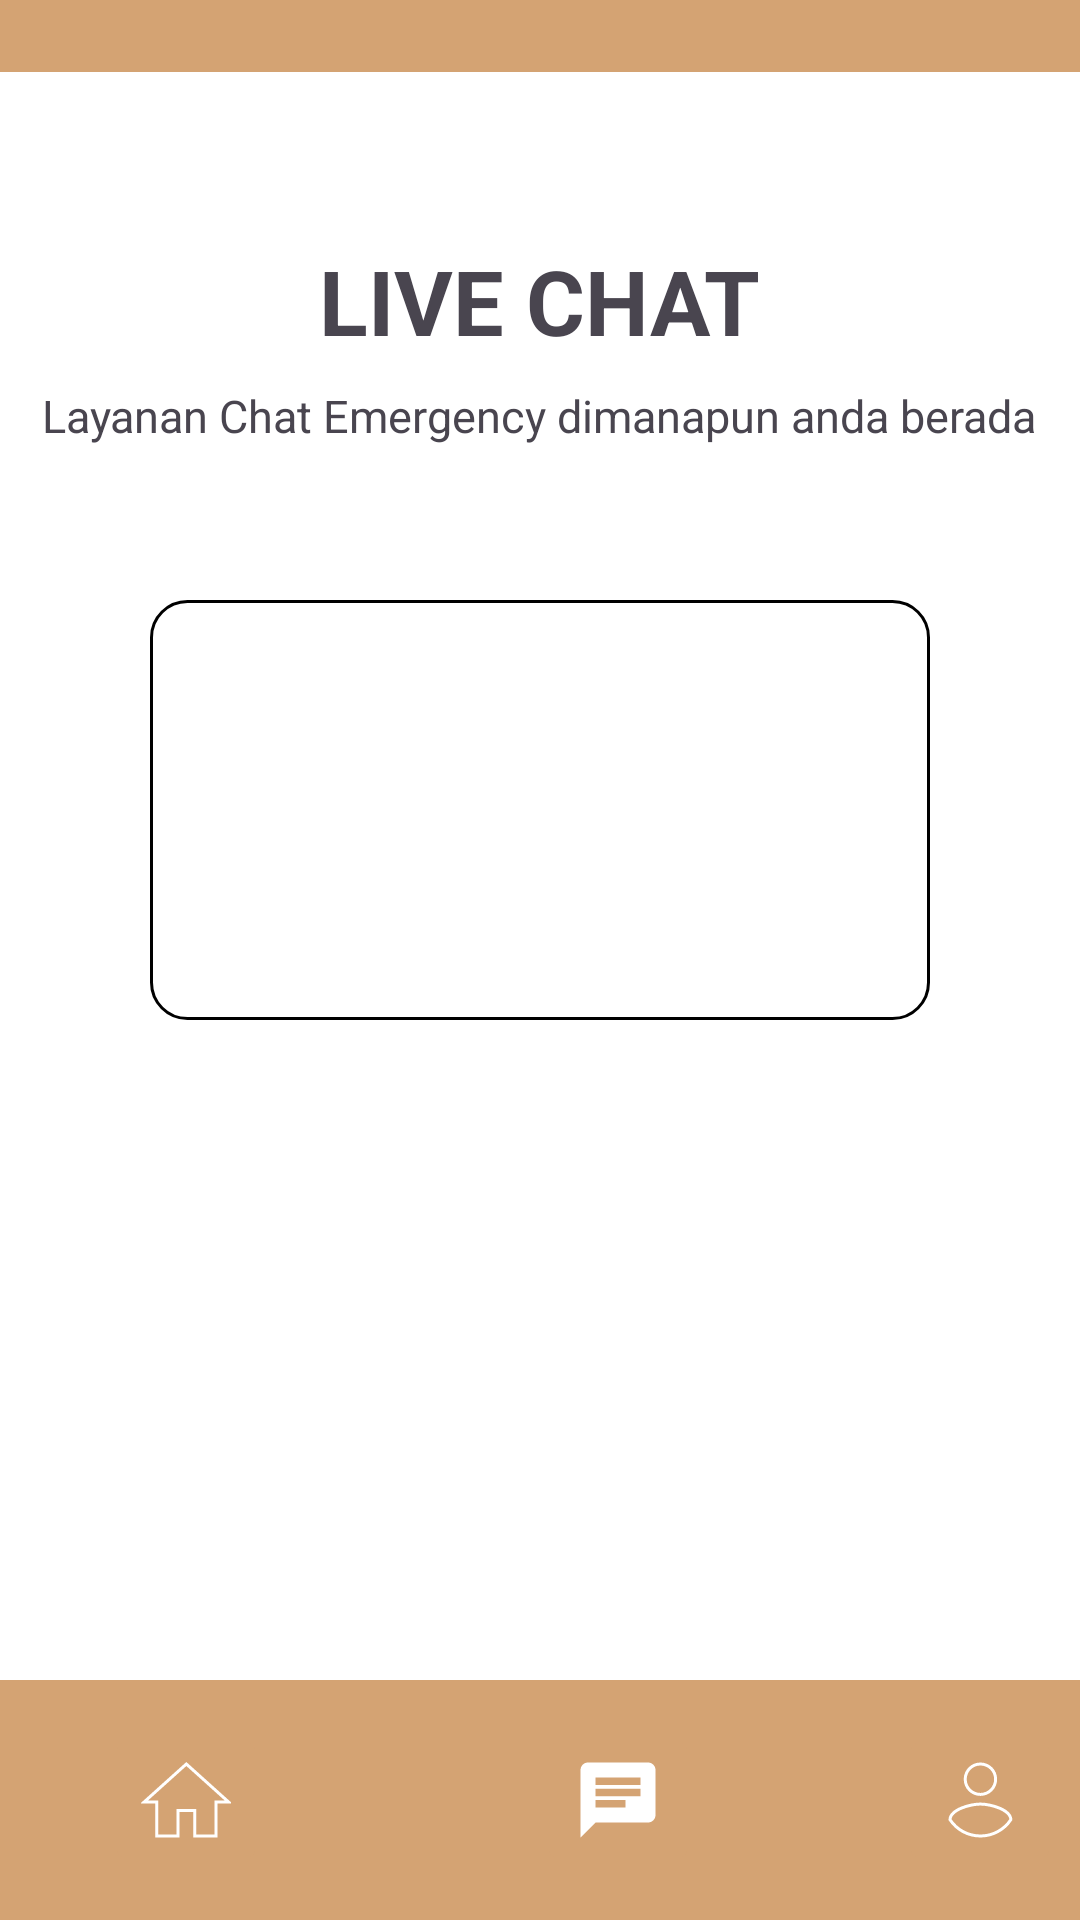

Named icons in this screenshot (1080w x 1920h) and their bounding boxes, (x1, y1, x2, y2):
chat: (580, 1762, 656, 1838)
home: (141, 1762, 231, 1838)
profile: (948, 1762, 1013, 1838)
